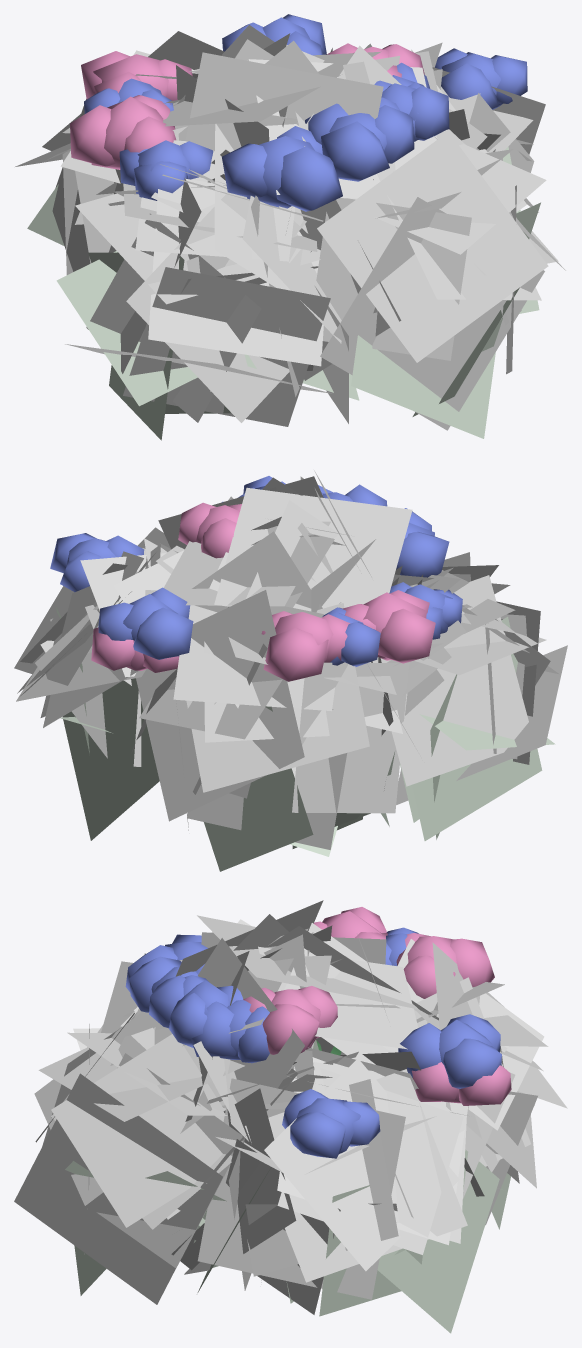
The model's file is hydrangea.glb.
The picture shows the model from 3 angles, top to bottom: view 1: azimuth 30°, elevation 25°; view 2: azimuth 150°, elevation 25°; view 3: azimuth 270°, elevation 25°; orthographic projection. The views are drawn at different scales.
Parts seen in each view (by area): view 1: hydrangea_body; view 2: hydrangea_body; view 3: hydrangea_body.
Boxes of the visible parts, x1=… form: hydrangea_body: x1=15, y1=14, x2=565, y2=440; hydrangea_body: x1=14, y1=470, x2=567, y2=871; hydrangea_body: x1=14, y1=900, x2=567, y2=1333.
Size of what is drawn, in the model's own units: 2.13 by 1.45 by 2.02.
